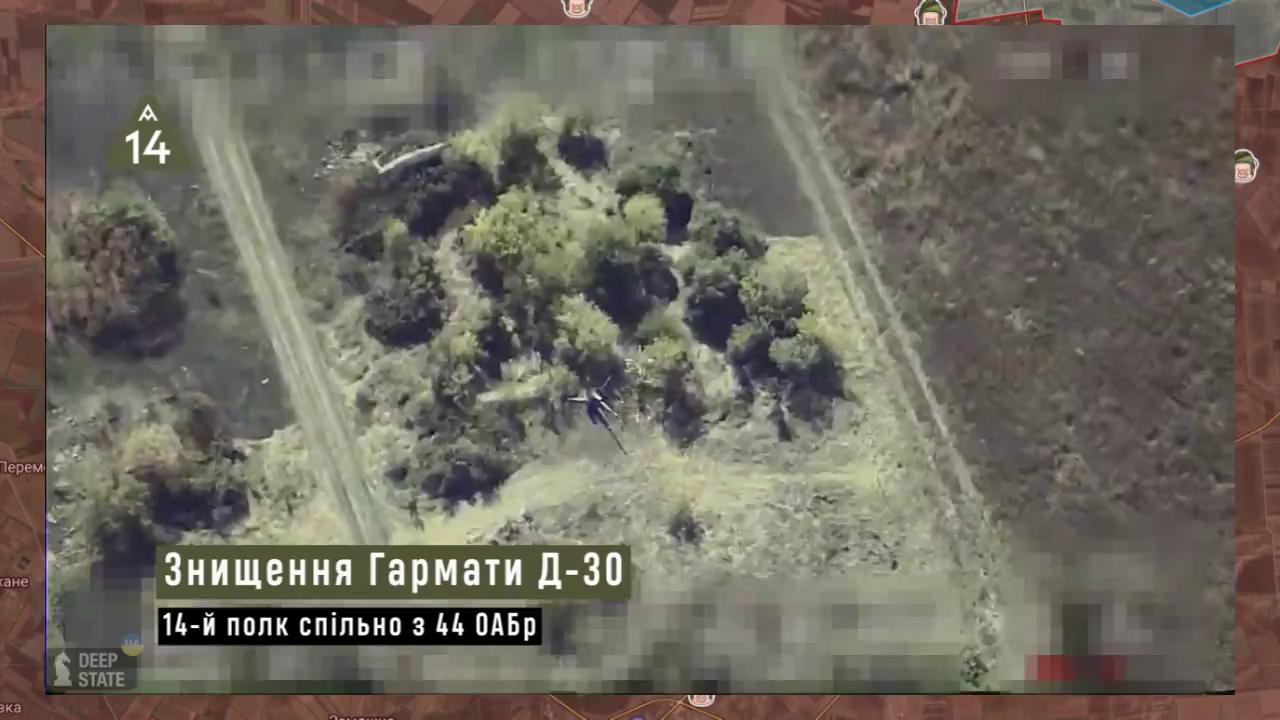tank: (552, 361, 632, 434)
